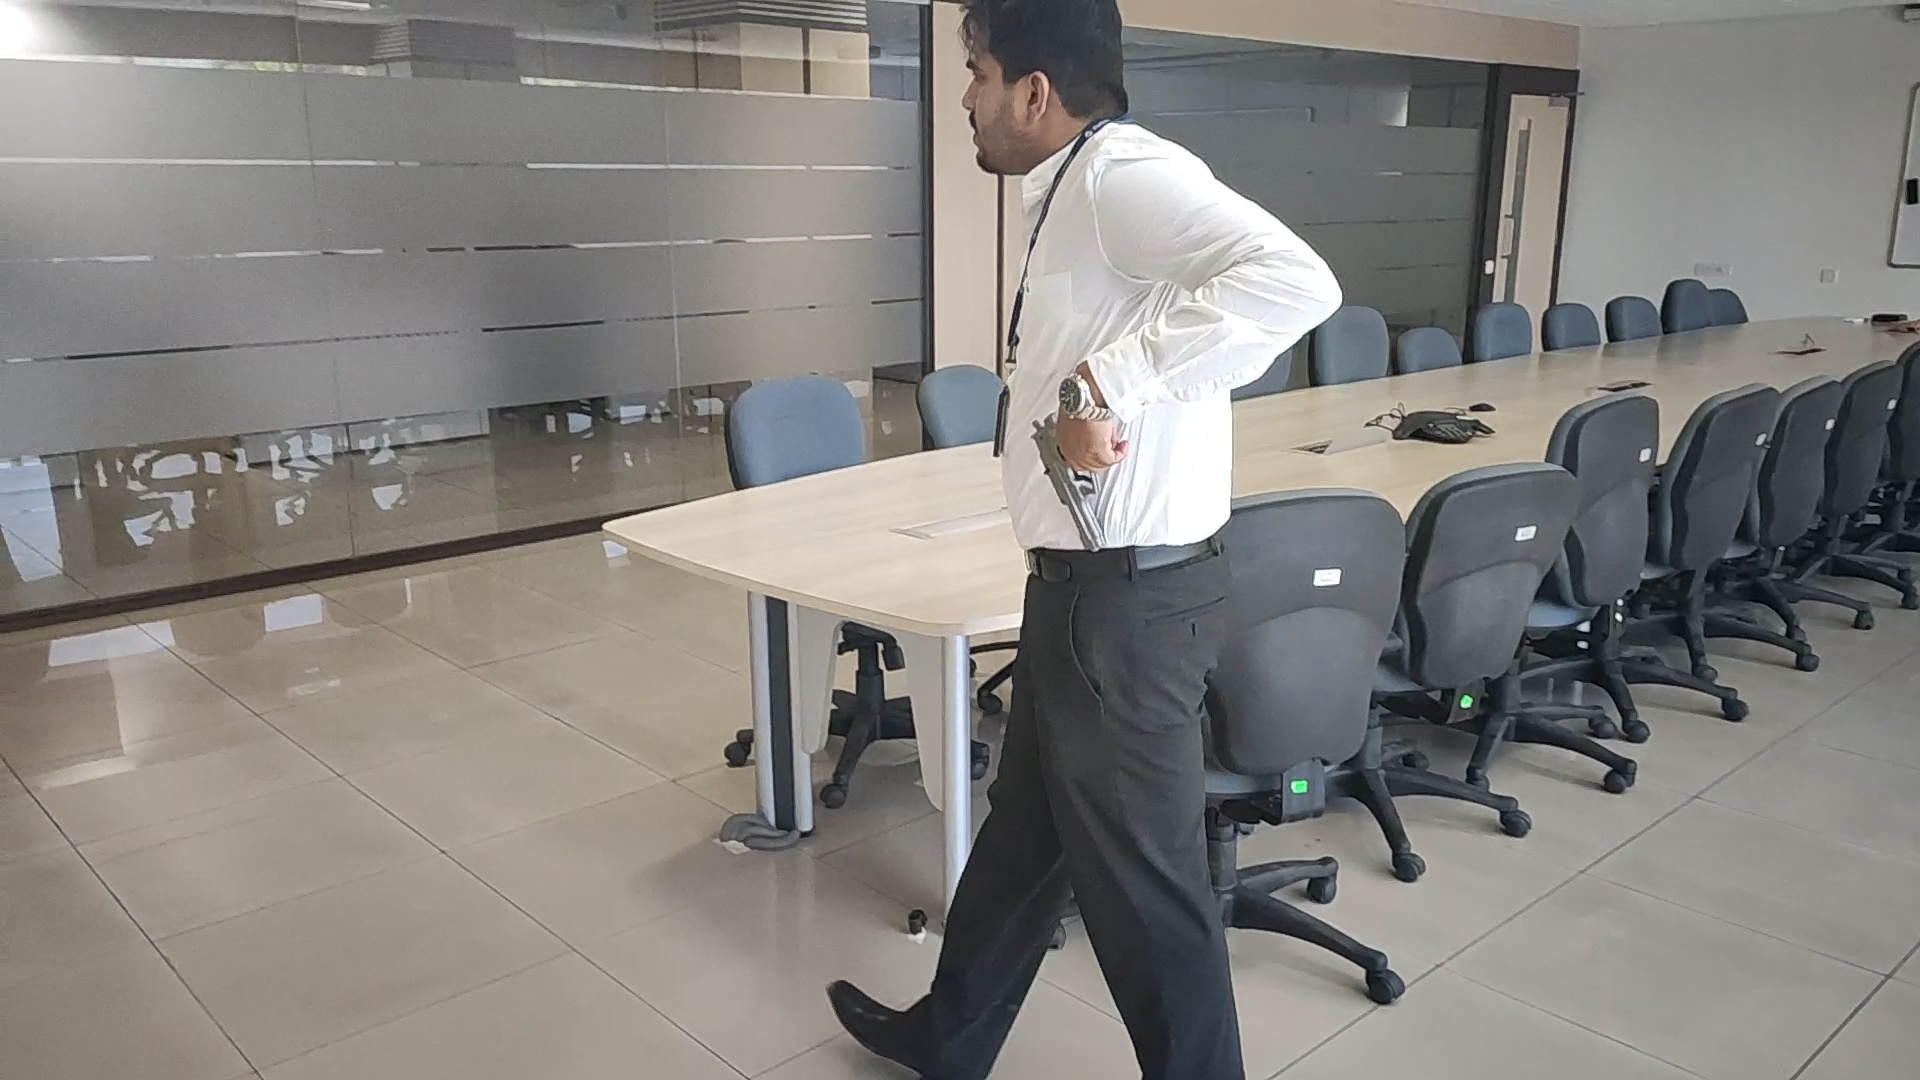gun: (1029, 443, 1105, 556)
